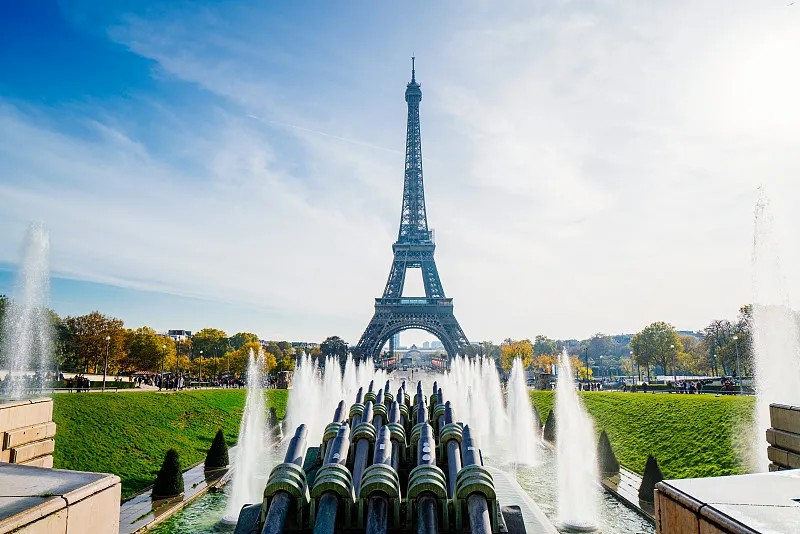Eiffel: (352, 52, 476, 364)
